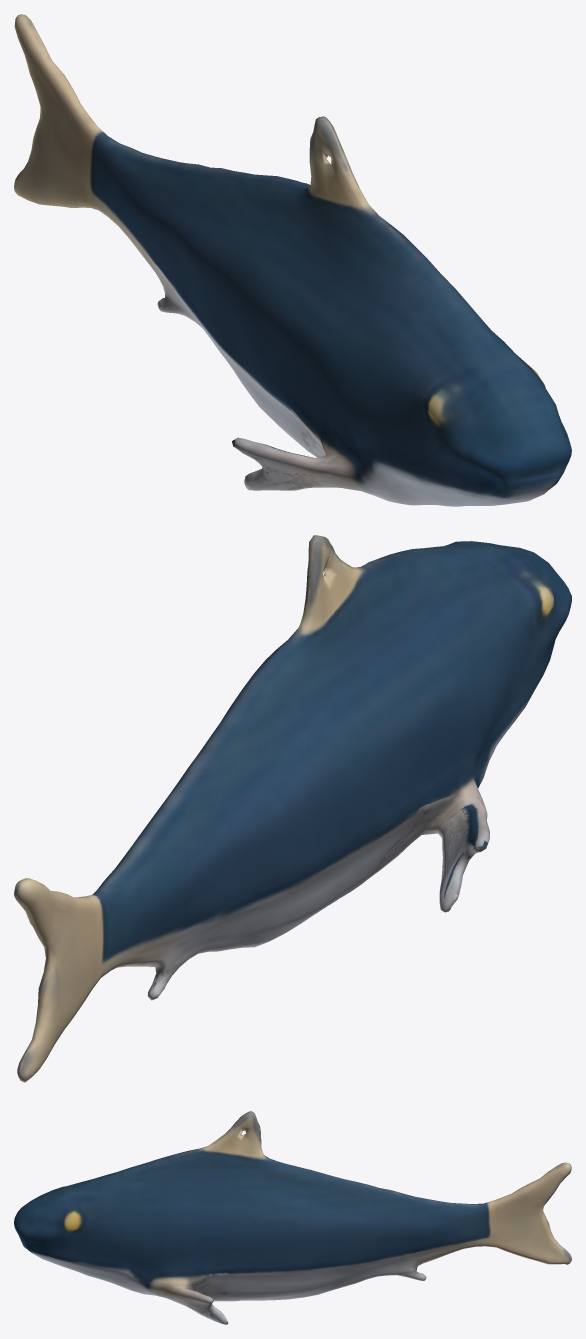
File: fish_19.glb
The picture shows the model from 3 angles, top to bottom: view 1: azimuth 30°, elevation 25°; view 2: azimuth 150°, elevation 25°; view 3: azimuth 270°, elevation 25°; orthographic projection. The views are drawn at different scales.
Visible parts, largest first — view 1: mesh; view 2: mesh; view 3: mesh.
Boxes of the visible parts, <box> form: mesh: <box>14,14,571,506</box>; mesh: <box>14,535,571,1082</box>; mesh: <box>14,1111,571,1324</box>.
Size of the model in its own units: 0.272 by 0.3719 by 0.9985.
Materials: 1 (1 with a texture image).
